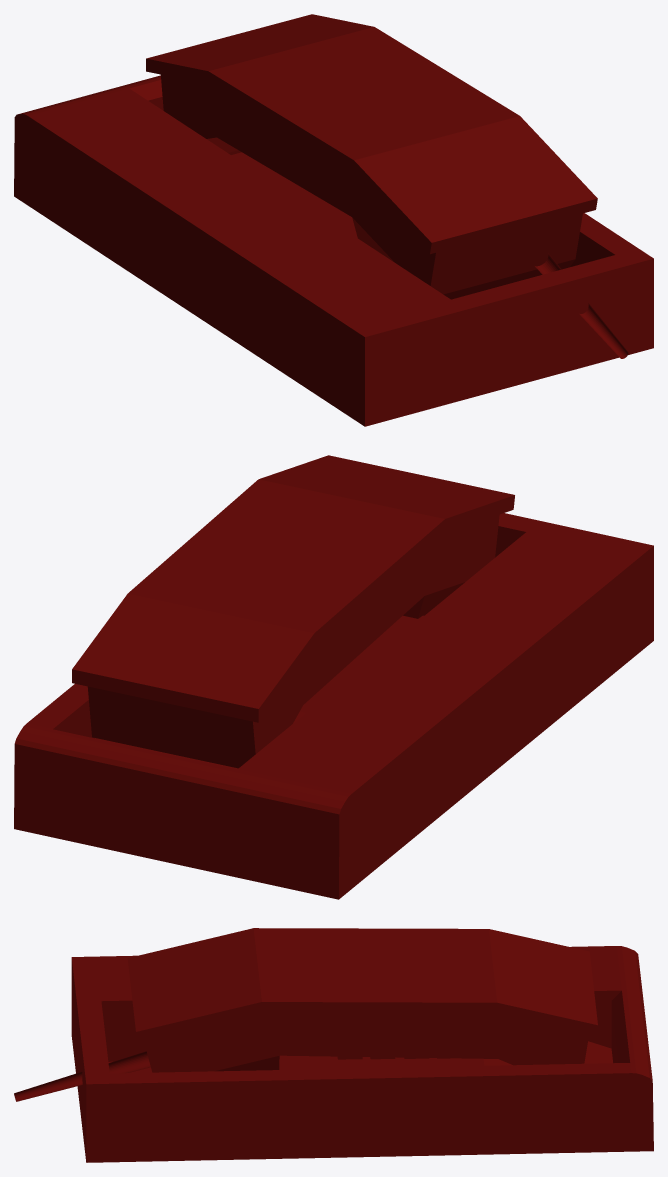
The model's file is phone-inactive.glb.
3 renders of one model, top to bottom at view 1: azimuth 30°, elevation 25°; view 2: azimuth 150°, elevation 25°; view 3: azimuth 270°, elevation 25°, orthographic. The views are drawn at different scales.
Visible parts, largest first — view 1: phone_open; view 2: phone_open; view 3: phone_open.
Part boxes in pixels (box(x1,y1,x2,y2)): phone_open: box(14, 14, 653, 426); phone_open: box(14, 455, 653, 899); phone_open: box(14, 928, 653, 1162).
Bounding box in the file's own units: 0.6252 × 0.309 × 1.22.
